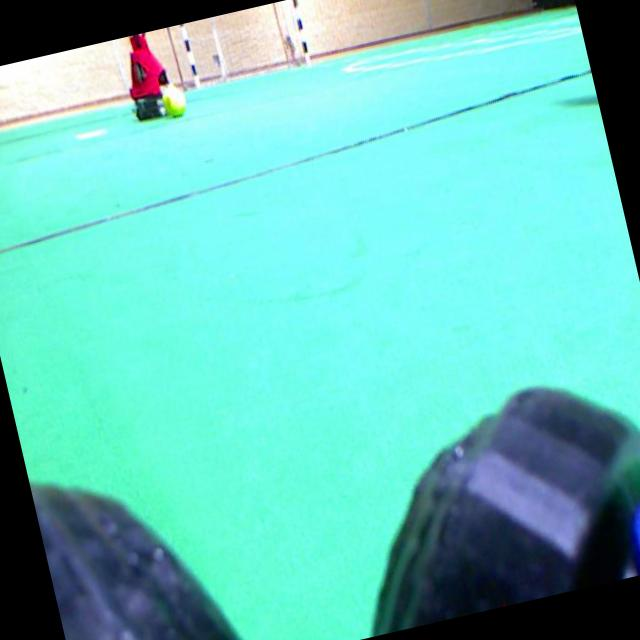ball: (161, 83, 185, 116)
